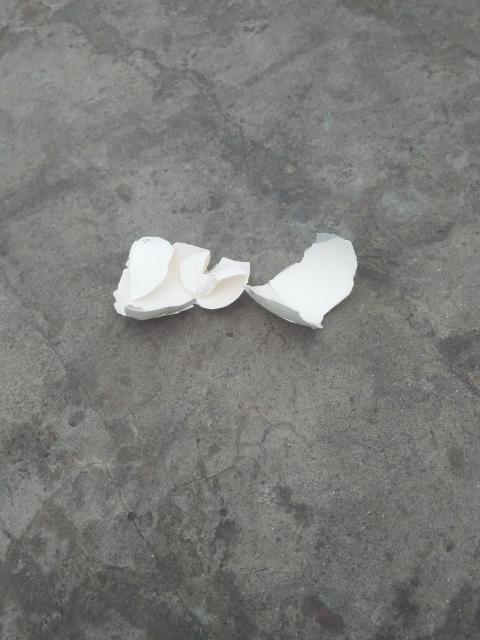Roto: (112, 234, 250, 321), (247, 230, 358, 330)
